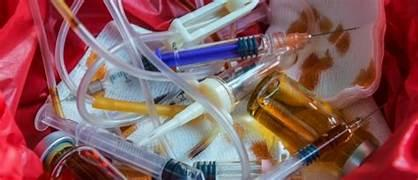Iv_Bottle: (247, 71, 346, 153), (35, 131, 125, 179)
Syringe: (35, 104, 203, 179), (258, 109, 378, 179), (156, 32, 331, 66), (198, 60, 279, 111)
